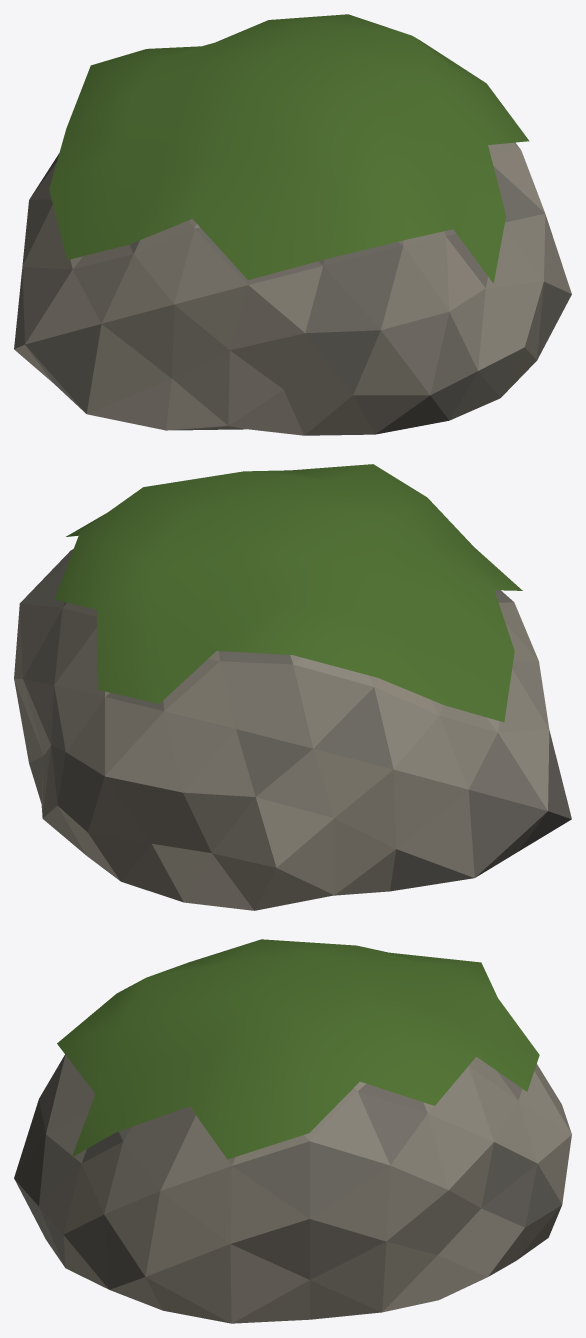
Rendered from BoulderLargeB.glb.
3 views of the same model, one above another, from view 1: azimuth 30°, elevation 25°; view 2: azimuth 150°, elevation 25°; view 3: azimuth 270°, elevation 25° (orthographic). The views are drawn at different scales.
Parts seen in each view (by area): view 1: BoulderLargeB.moss, BoulderLargeB.stone, BoulderLargeB.stoneDark; view 2: BoulderLargeB.stone, BoulderLargeB.moss, BoulderLargeB.stoneDark; view 3: BoulderLargeB.stone, BoulderLargeB.moss, BoulderLargeB.stoneDark.
Part boxes in pixels (left/top/right/bottom): BoulderLargeB.moss: left=49, top=14, right=529, bottom=283; BoulderLargeB.stone: left=14, top=142, right=571, bottom=435; BoulderLargeB.stoneDark: left=14, top=153, right=571, bottom=434; BoulderLargeB.stone: left=14, top=549, right=549, bottom=910; BoulderLargeB.moss: left=54, top=464, right=522, bottom=722; BoulderLargeB.stoneDark: left=20, top=560, right=571, bottom=891; BoulderLargeB.stone: left=39, top=1054, right=571, bottom=1323; BoulderLargeB.moss: left=57, top=939, right=539, bottom=1159; BoulderLargeB.stoneDark: left=14, top=1071, right=561, bottom=1289.
Size of the model in its own units: 8.8 by 4.8 by 9.
